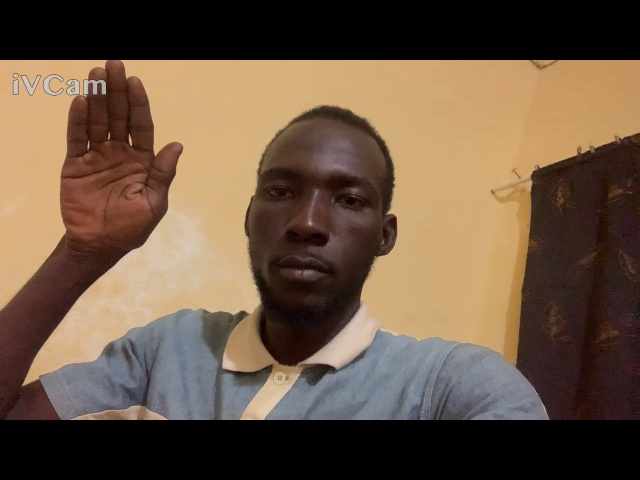bonjour: (32, 61, 189, 282)
